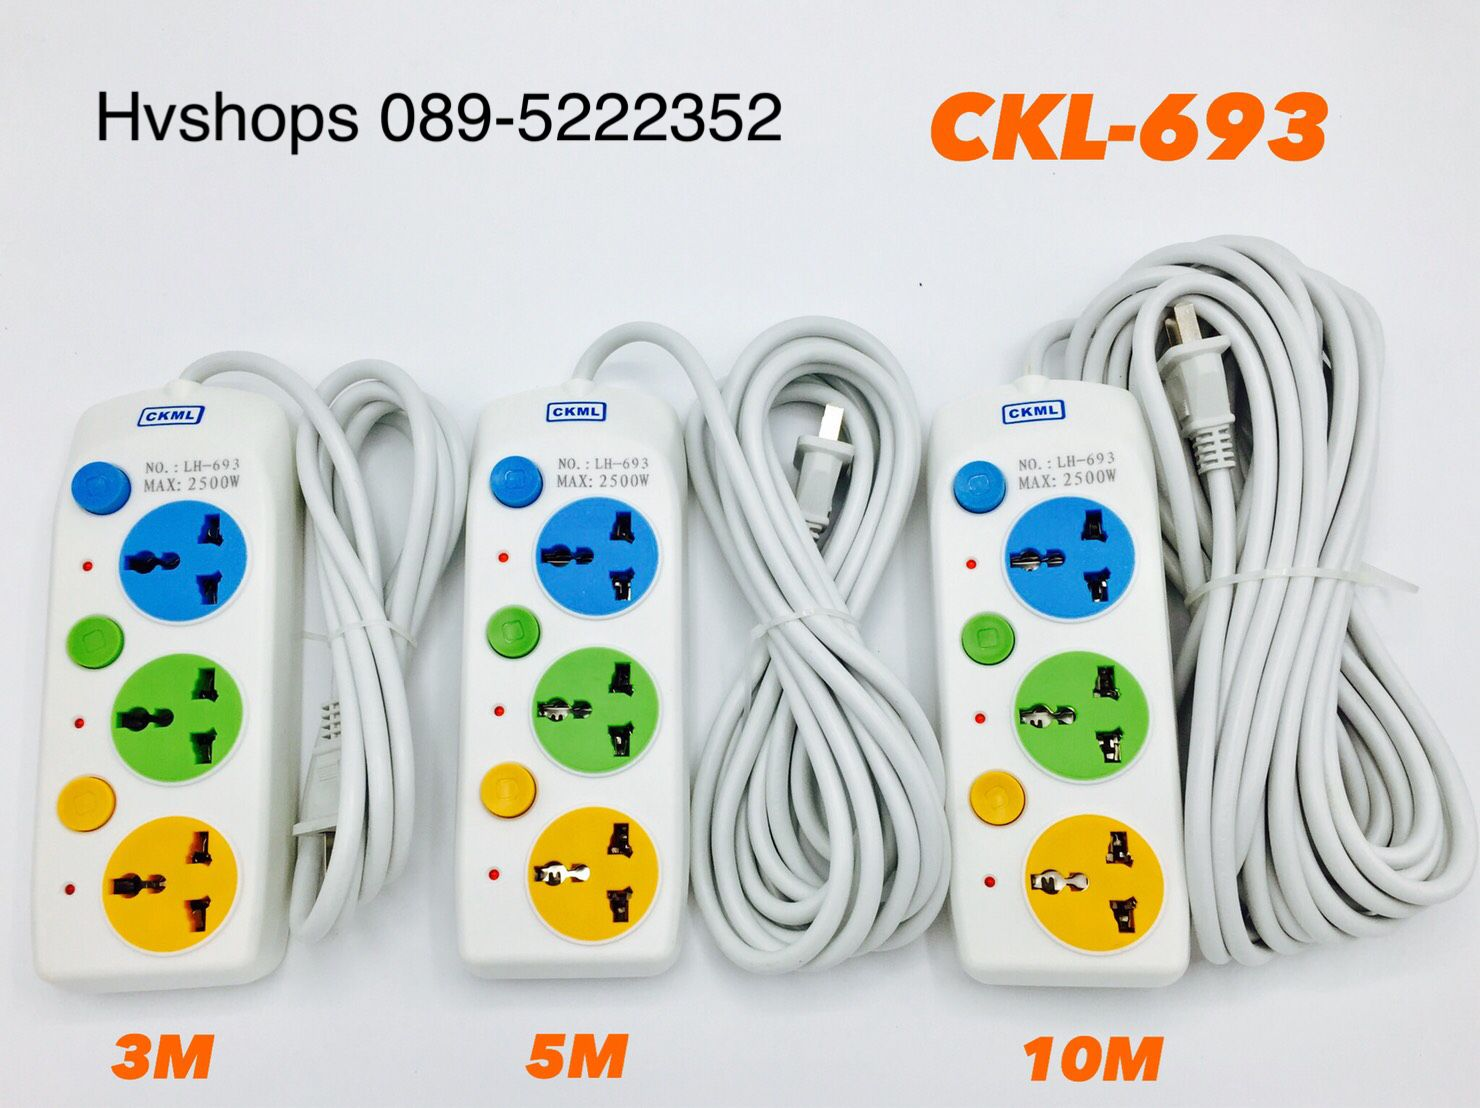Three_eye_plug: (904, 355, 1307, 1031), (26, 364, 383, 1007), (434, 363, 791, 990)
